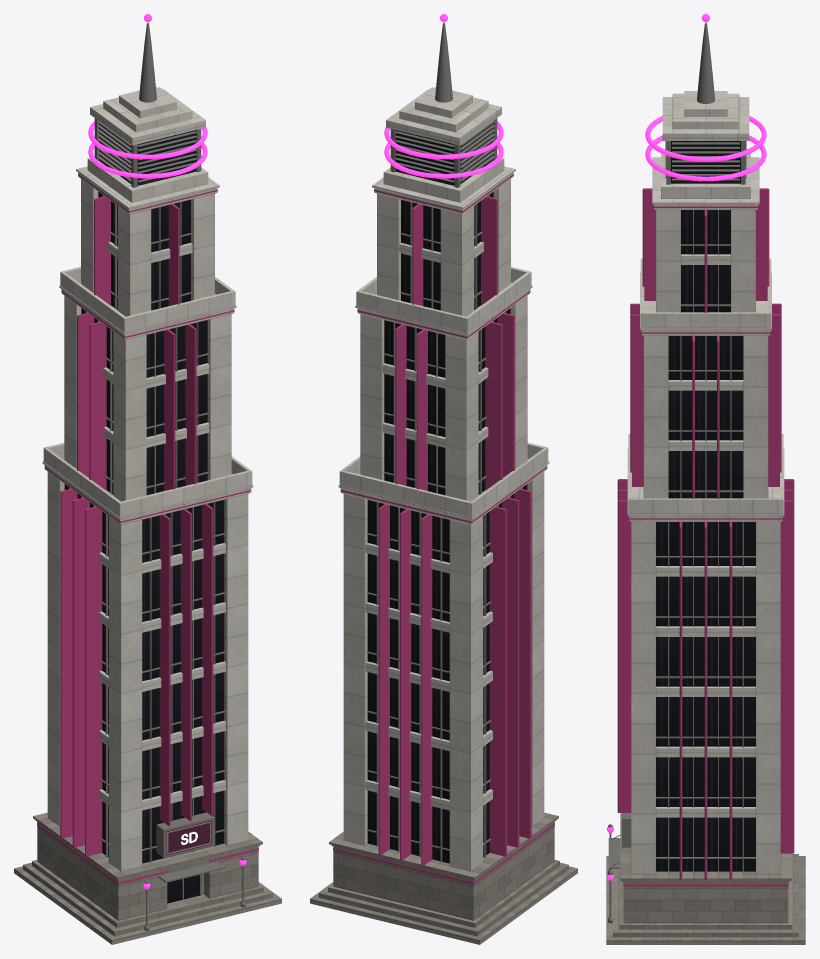
The model's file is s32-solar-dao.glb.
3 renders of one model, left to right at view 1: azimuth 30°, elevation 25°; view 2: azimuth 150°, elevation 25°; view 3: azimuth 270°, elevation 25°, orthographic.
Visible parts, largest first — view 1: Landmark · Solar DAO (Series 32); view 2: Landmark · Solar DAO (Series 32); view 3: Landmark · Solar DAO (Series 32).
Part boxes in pixels (box(x1,y1,x2,y2)): Landmark · Solar DAO (Series 32): box(14, 14, 281, 944); Landmark · Solar DAO (Series 32): box(310, 14, 577, 944); Landmark · Solar DAO (Series 32): box(606, 14, 805, 944).
Bounding box in the file's own units: 12 × 59 × 12.
7 materials, 4 textured.
